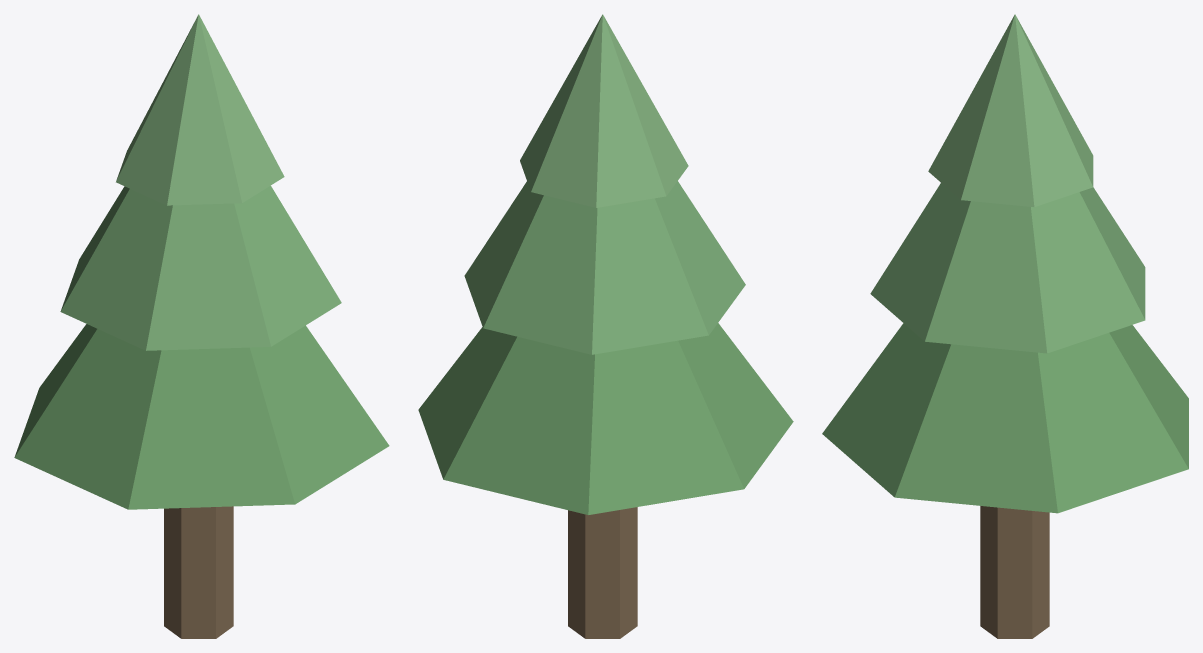
Rendered from arbol.gltf.
3 renders of one model, left to right at view 1: azimuth 30°, elevation 25°; view 2: azimuth 150°, elevation 25°; view 3: azimuth 270°, elevation 25°, orthographic.
Visible parts, largest first — view 1: arbol; view 2: arbol; view 3: arbol.
Boxes of the visible parts, left/top/right/bottom form: arbol: left=14, top=14, right=389, bottom=638; arbol: left=418, top=14, right=793, bottom=638; arbol: left=822, top=14, right=1188, bottom=638.
Bounding box in the file's own units: 1.95 × 3.5 × 1.9.
